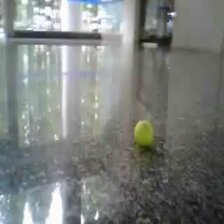tennis: (134, 121, 153, 145)
